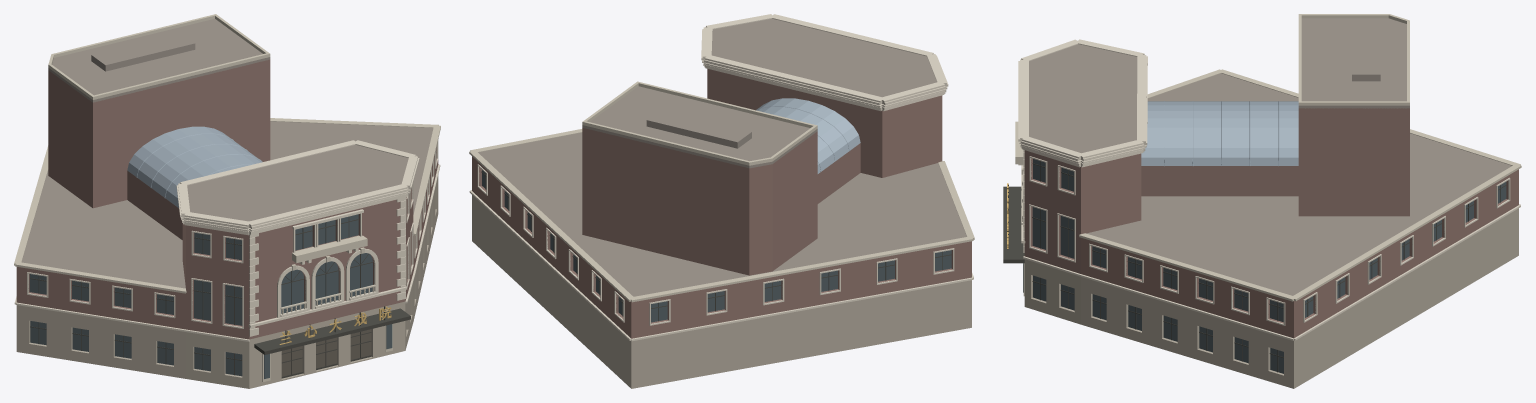
File: huangpu-lyceum-theatre-lod.glb
The picture shows the model from 3 angles, left to right: view 1: azimuth 30°, elevation 25°; view 2: azimuth 150°, elevation 25°; view 3: azimuth 270°, elevation 25°; orthographic projection. The views are drawn at different scales.
Visible parts, largest first — view 1: 兰心大戏院（茂名南路57号）; view 2: 兰心大戏院（茂名南路57号）; view 3: 兰心大戏院（茂名南路57号）.
Boxes of the visible parts, x1,y1,x2,y2 form: 兰心大戏院（茂名南路57号）: [14, 14, 440, 388]; 兰心大戏院（茂名南路57号）: [469, 14, 974, 388]; 兰心大戏院（茂名南路57号）: [1003, 14, 1521, 388].
Bounding box in the file's own units: 55.6 × 23.33 × 52.88.
